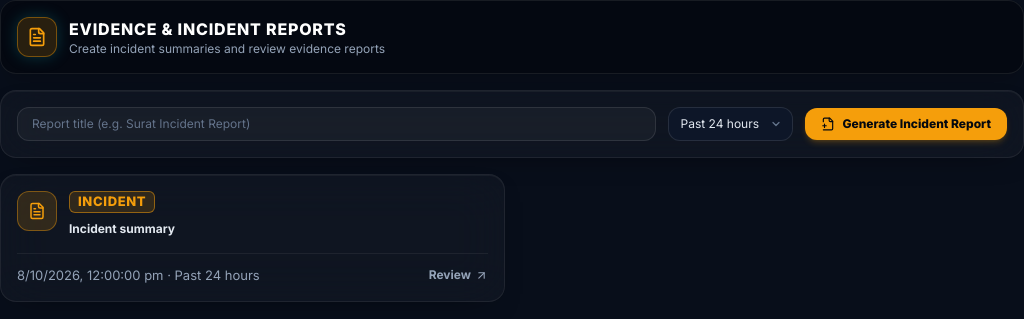
it: shows a generated confirmation without opening a preview or downloading
The image size is (1024, 319).
Click the button "Generate Incident Report": x=906, y=124 x1=804 y1=108 x2=1007 y2=140
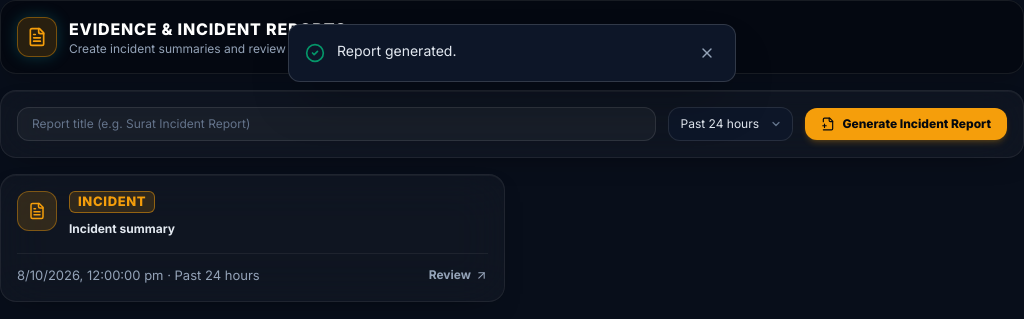
Check: the message reads "Report generated.", box x1=337 y1=42 x2=456 y2=59
Click the button named "Dismiss message": x=707, y=53 x1=695 y1=41 x2=719 y2=65
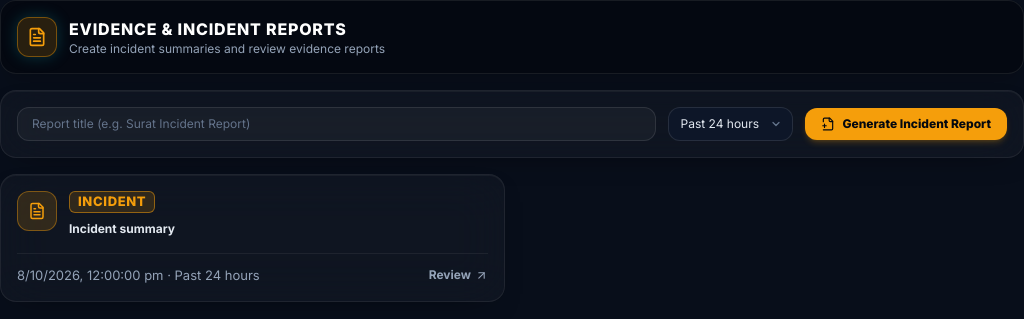
Check: the message "Report generated." is gone
